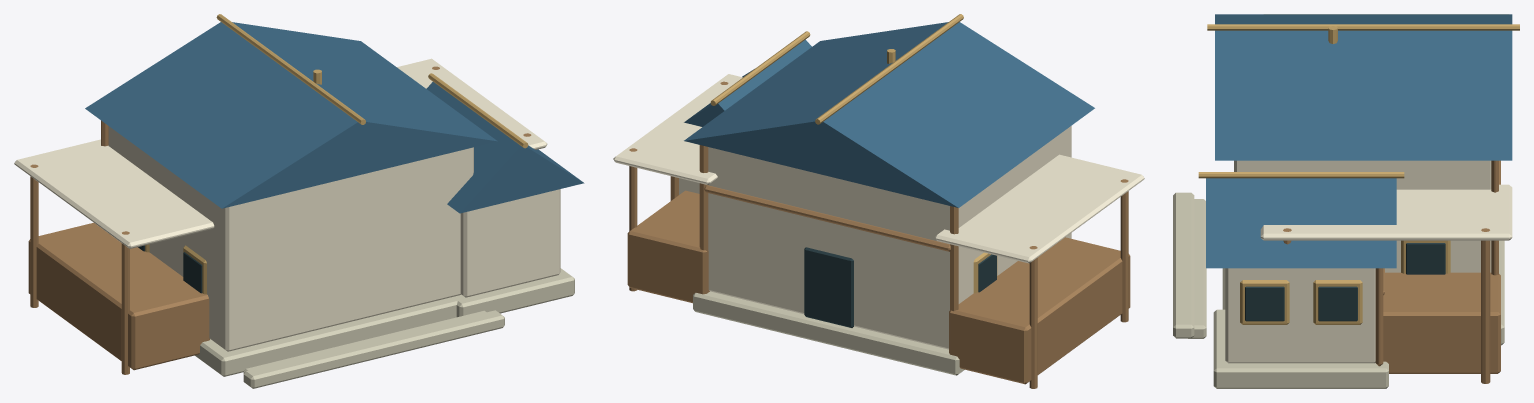
Rendered from level_18.glb.
The picture shows the model from 3 angles, left to right: view 1: azimuth 30°, elevation 25°; view 2: azimuth 150°, elevation 25°; view 3: azimuth 270°, elevation 25°; orthographic projection. The views are drawn at different scales.
Parts seen in each view (by area): view 1: market — level 18; view 2: market — level 18; view 3: market — level 18.
Part boxes in pixels (x1=…): market — level 18: x1=14, y1=14, x2=584, y2=388; market — level 18: x1=613, y1=14, x2=1144, y2=388; market — level 18: x1=1173, y1=14, x2=1519, y2=388.
Bounding box in the file's own units: 7.08 × 3.68 × 4.55.
